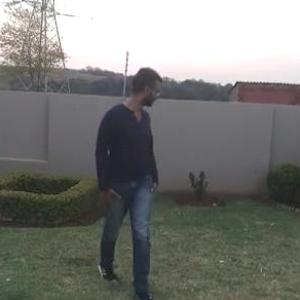follow: (94, 61, 164, 271)
